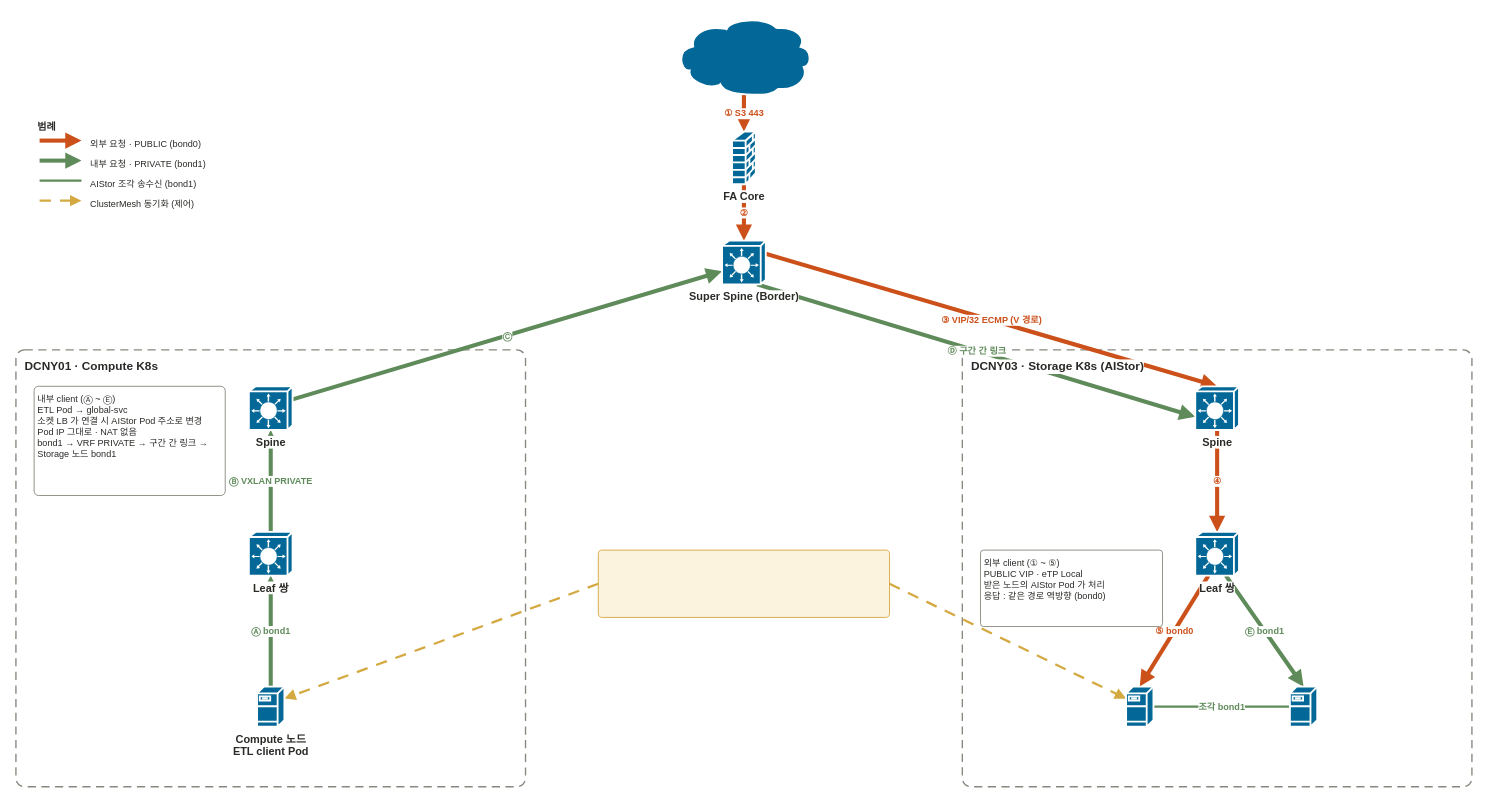
This 1489x803 diagram has some shape labels left out. The shapes that lost their labels are listed below. From the top down, each one's centre as x and y in pixels, then its label:
(x=743, y=55): 외부 client
(x=743, y=583): ClusterMesh (제어) KVStoreMesh · apiserver × 2 global-svc 백엔드 · identity 동기화
(x=1139, y=706): AIStor 노드 N1 (로컬 Pod 처리)
(x=1303, y=706): AIStor 노드 N2
